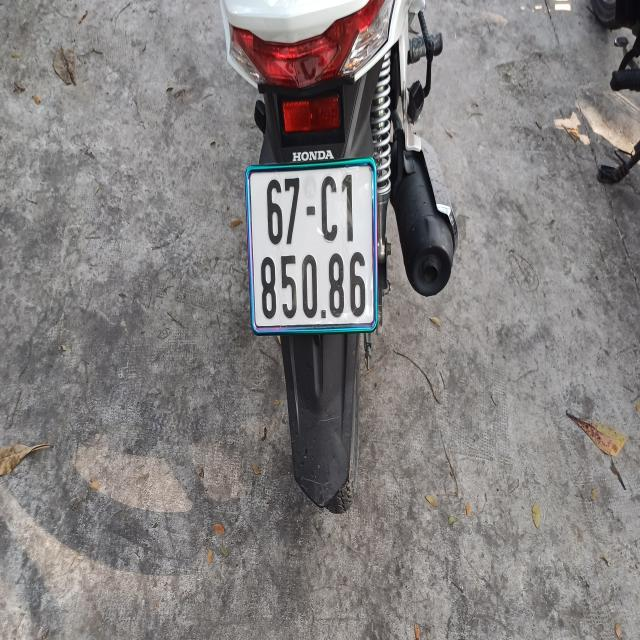0: (300, 254, 318, 316)
1: (340, 176, 355, 242)
5: (280, 254, 296, 316)
6: (265, 178, 284, 246), (350, 252, 367, 320)
7: (286, 178, 302, 245)
8: (259, 255, 278, 319), (327, 250, 344, 316)
C: (320, 172, 338, 240)
